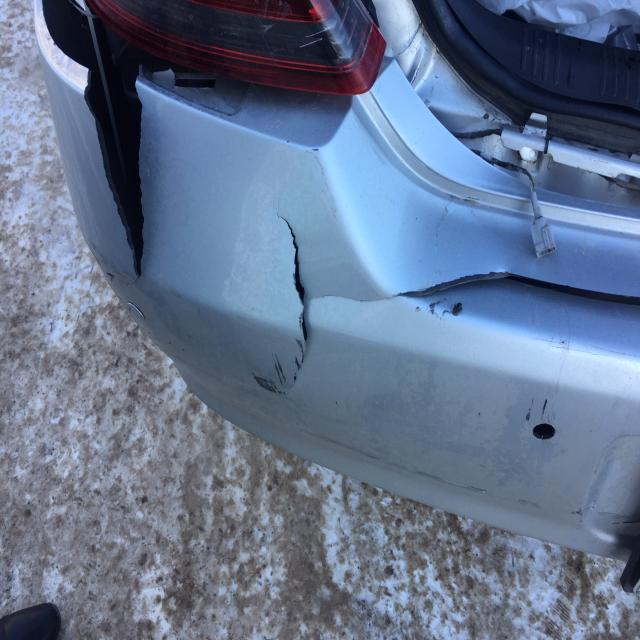Cabossage: (140, 73, 288, 295), (371, 12, 470, 136)
Dechirure: (33, 10, 162, 299), (347, 271, 640, 308), (277, 204, 317, 380)
Rayure: (249, 370, 290, 410)
